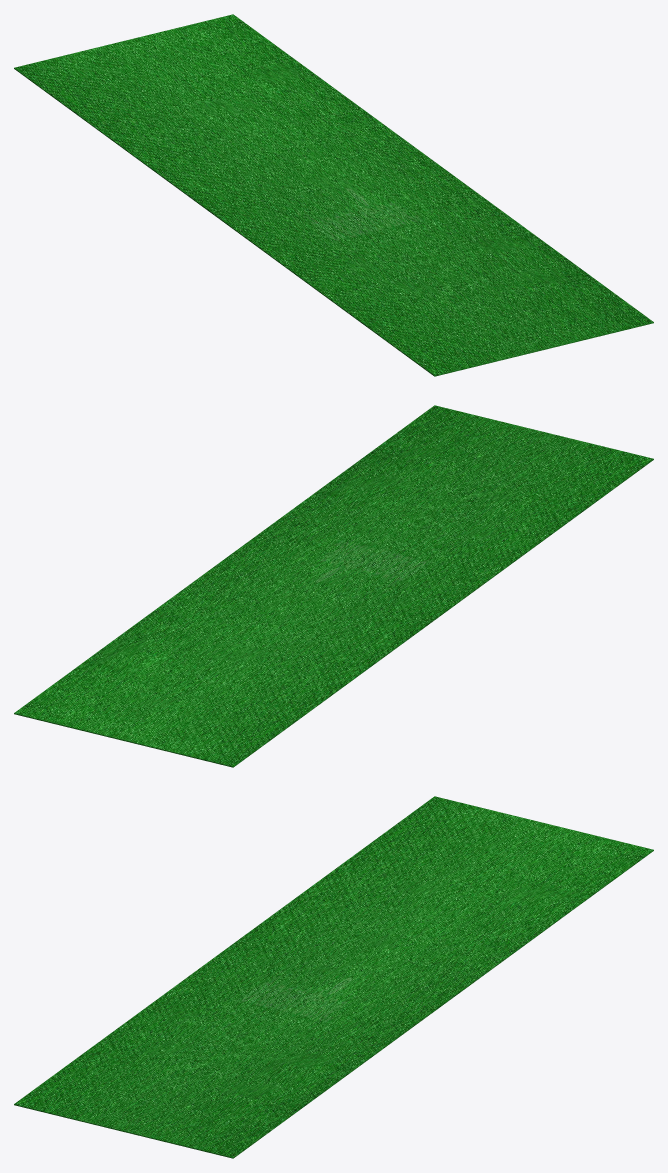
Rendered from GREEN CARPET.fbx.
3 renders of one model, top to bottom at view 1: azimuth 30°, elevation 25°; view 2: azimuth 150°, elevation 25°; view 3: azimuth 330°, elevation 25°, orthographic.
Parts seen in each view (by area): view 1: pCube1; view 2: pCube1; view 3: pCube1.
Boxes of the visible parts, x1,y1,x2,y2 form: pCube1: [14, 14, 653, 376]; pCube1: [14, 405, 653, 767]; pCube1: [14, 796, 653, 1158].
Size of the model in its own units: 1 by 0.0208 by 3.32.
1 material, 1 textured.
